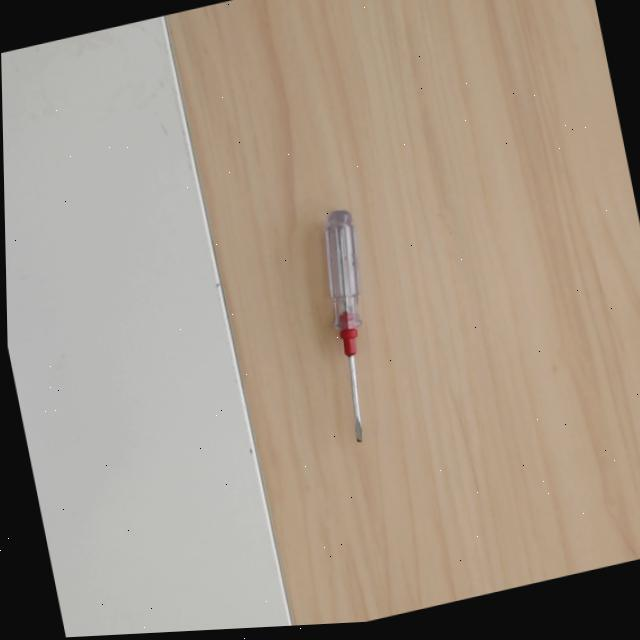Obeng-Kecil: (322, 208, 371, 442)
